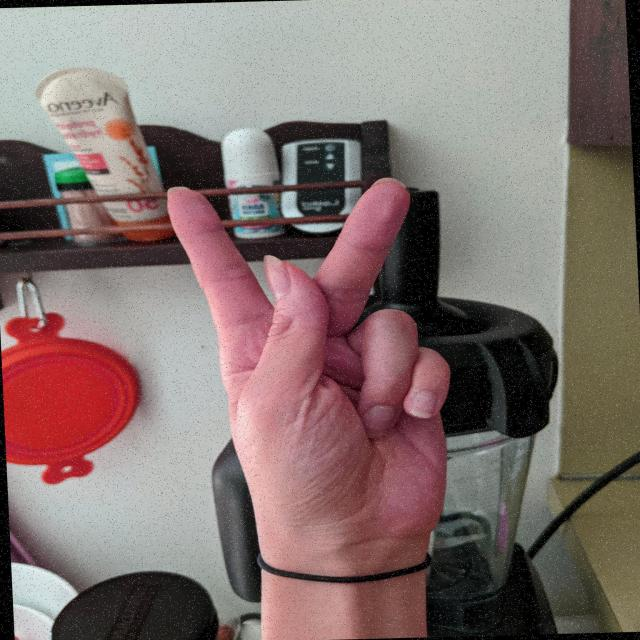K: (157, 173, 472, 565)
